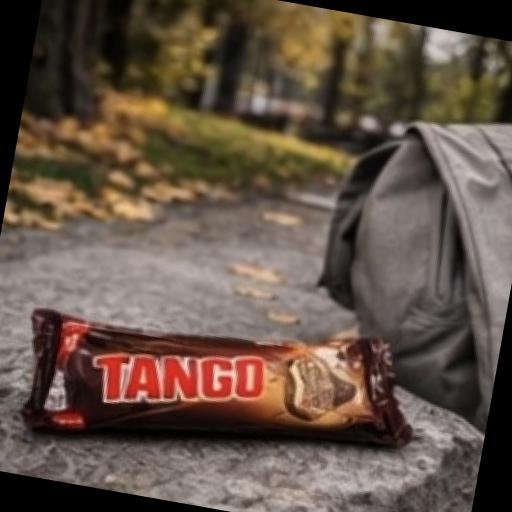tango: (0, 241, 470, 512)
